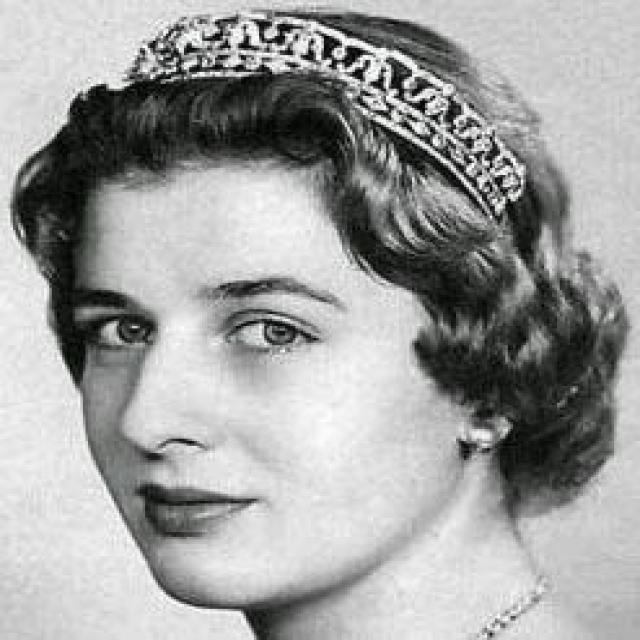Earring: (448, 400, 520, 468)
